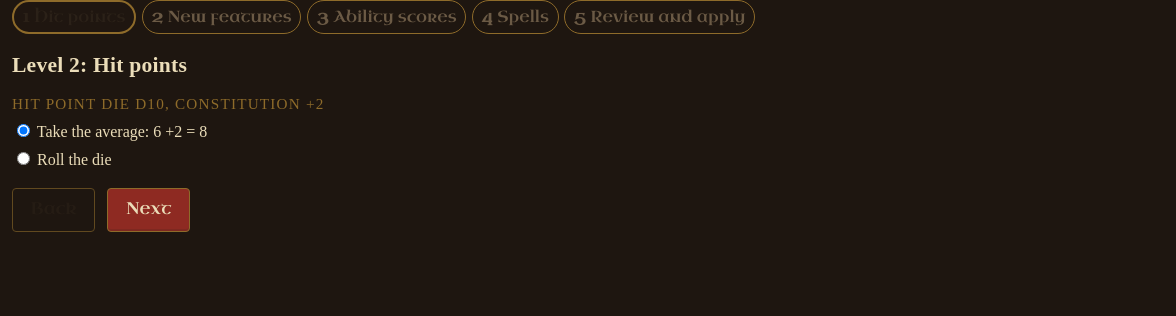
the level-up flow (P2-10) › rolls the Hit Point Die on the server, and then the roll is the gain
The width and height of the screenshot is (1176, 316).
Click the radio button labelled "Roll the die". click: {"x": 24, "y": 159}
box: x1=17 y1=152 x2=30 y2=166
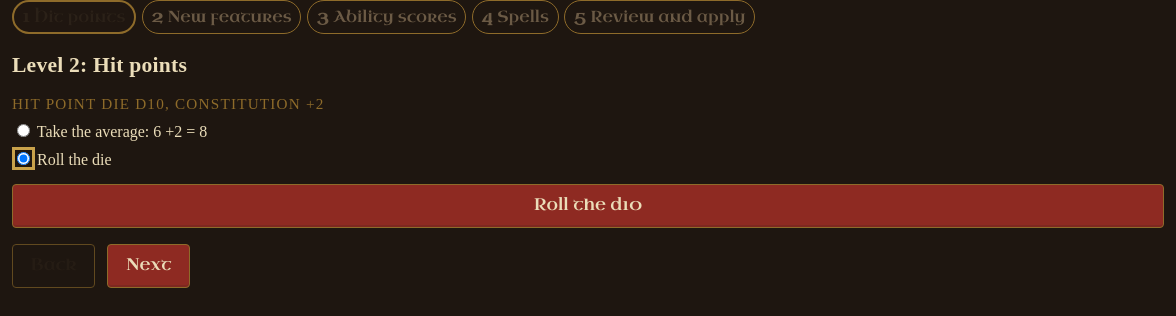
Click the button "Roll the d10". click: {"x": 588, "y": 206}
box: x1=12 y1=184 x2=1164 y2=228
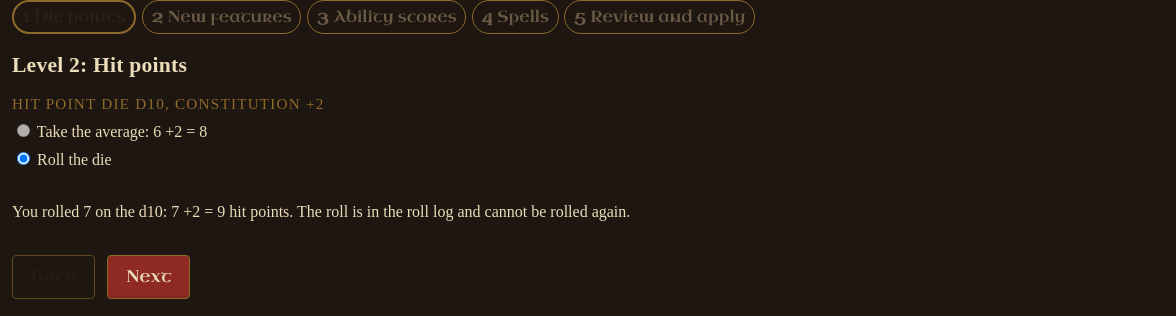
Now the text "You rolled 7 on the d10: 7 +2 = 9 hit points." is shown, box x1=12 y1=203 x2=630 y2=220
Now the radio button labelled "Take the average: 6 +2 = 8" is disabled, box x1=17 y1=124 x2=30 y2=137
